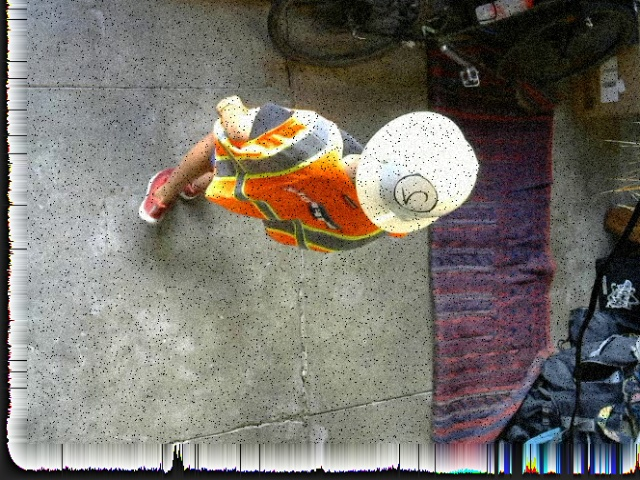two: (394, 173, 436, 212)
